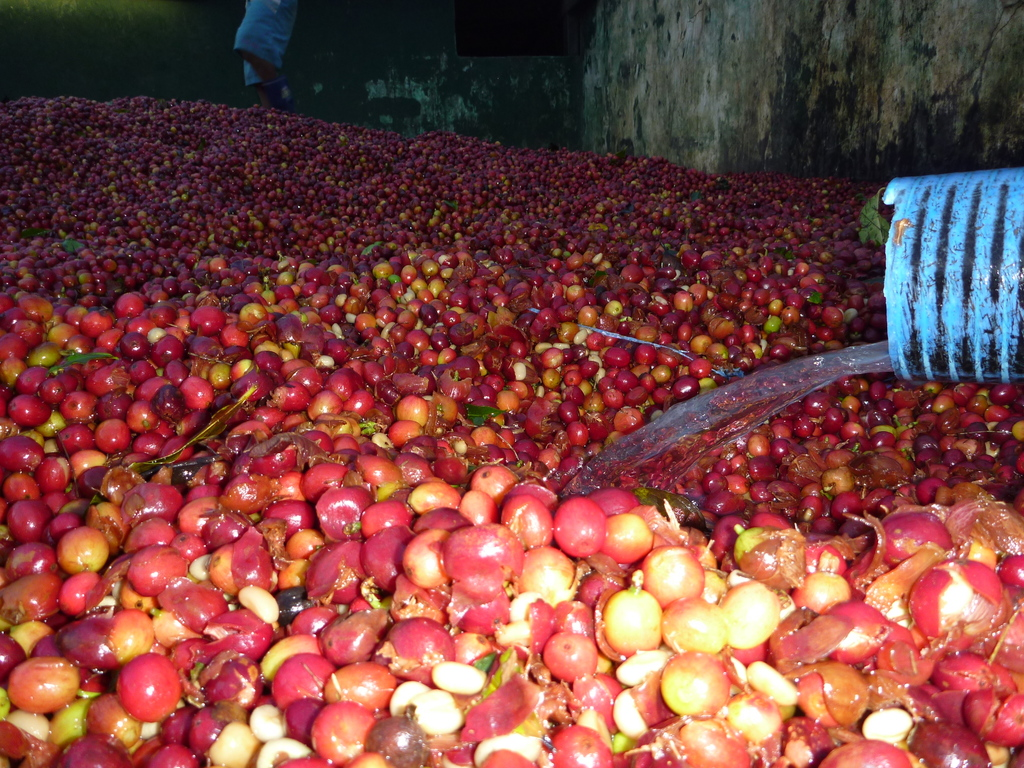Apple: (0, 89, 1023, 767), (103, 666, 185, 743)
